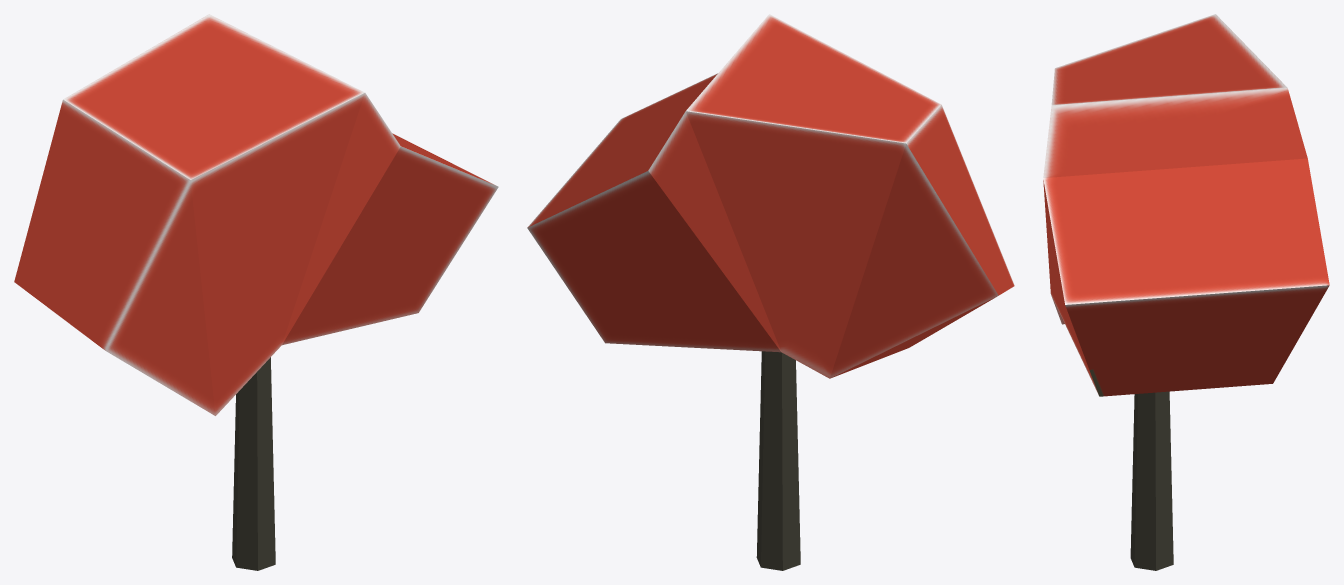
File: tree01.fbx
3 renders of one model, left to right at view 1: azimuth 30°, elevation 25°; view 2: azimuth 150°, elevation 25°; view 3: azimuth 270°, elevation 25°, orthographic. The views are drawn at different scales.
Visible parts, largest first — view 1: tree01; view 2: tree01; view 3: tree01.
Boxes of the visible parts, left/top/right/bottom form: tree01: left=14, top=14, right=498, bottom=570; tree01: left=527, top=14, right=1014, bottom=570; tree01: left=1043, top=14, right=1329, bottom=570.
Size of the model in its own units: 283 by 309 by 165.
